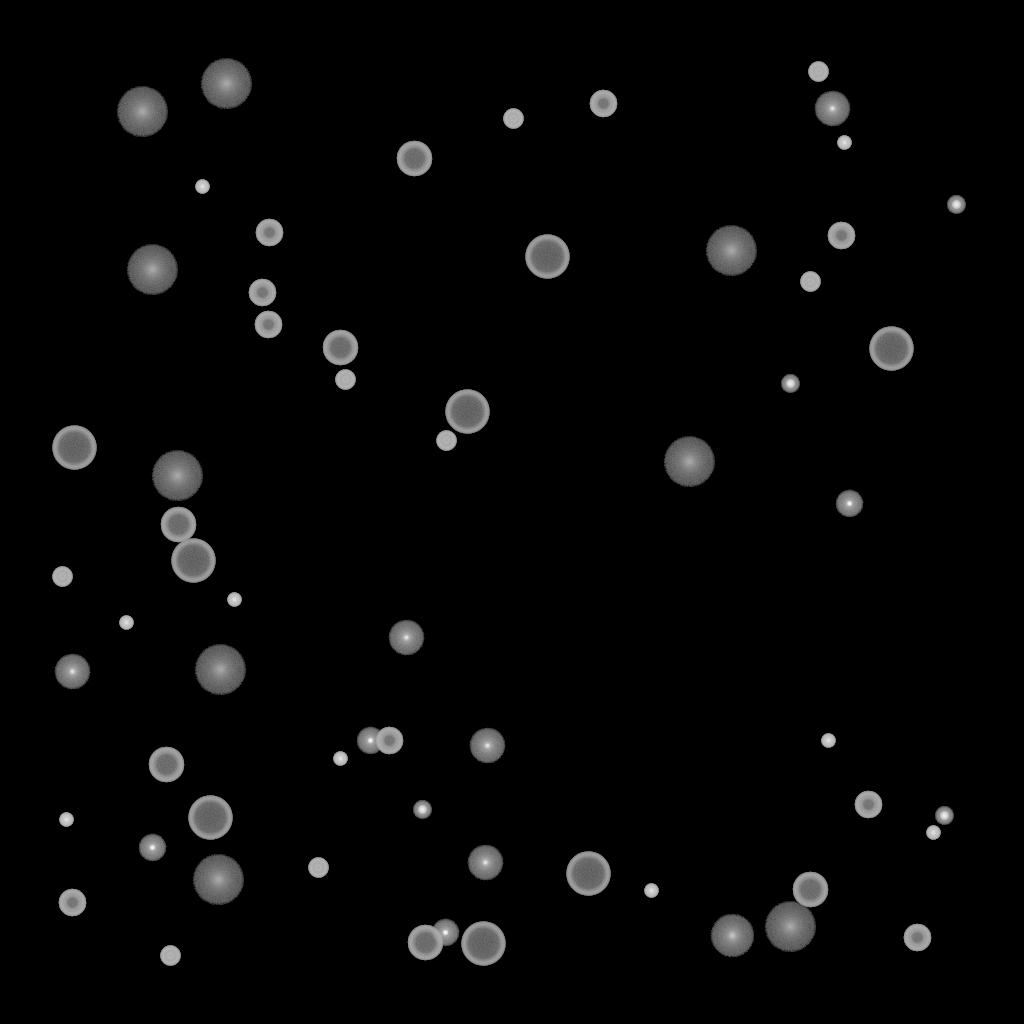depth:-10: (356, 727, 384, 755), (835, 490, 863, 518), (138, 834, 166, 862), (431, 919, 459, 947)
depth:-20: (781, 375, 799, 393), (935, 807, 953, 825), (947, 196, 965, 214), (413, 801, 431, 819)
depth:-30: (227, 593, 241, 607), (119, 616, 133, 630), (195, 180, 209, 194), (821, 734, 835, 748), (333, 752, 347, 766), (59, 813, 73, 827), (644, 884, 658, 898), (837, 136, 851, 150), (926, 826, 940, 840)
depth:-40: (503, 109, 523, 129), (308, 858, 328, 878), (335, 370, 355, 390), (808, 62, 828, 82), (436, 431, 456, 451), (800, 272, 820, 292), (52, 567, 72, 587), (160, 946, 180, 966)
depth:-50: (827, 222, 855, 250), (375, 727, 403, 755), (58, 889, 86, 917), (255, 219, 283, 247), (254, 311, 282, 339), (589, 90, 617, 118), (903, 924, 931, 952), (854, 791, 882, 819), (248, 279, 276, 307)
depth:-60: (396, 141, 432, 177), (792, 872, 828, 908), (322, 330, 358, 366), (160, 507, 196, 543), (407, 925, 443, 961), (148, 747, 184, 783)
depth:-70: (869, 327, 913, 371), (171, 539, 215, 583), (445, 390, 489, 434), (525, 235, 569, 279), (188, 796, 232, 840), (566, 852, 610, 896), (52, 426, 96, 470), (461, 922, 505, 966)
depth:0: (54, 654, 90, 690), (388, 620, 424, 656), (469, 728, 505, 764), (814, 91, 850, 127), (467, 845, 503, 881)
depth:10: (710, 914, 754, 958)
depth:20: (764, 902, 816, 952), (705, 226, 757, 276), (194, 645, 246, 695), (126, 245, 178, 295), (663, 437, 715, 487), (116, 87, 168, 137), (151, 451, 203, 501), (192, 855, 244, 905), (200, 59, 252, 109)
